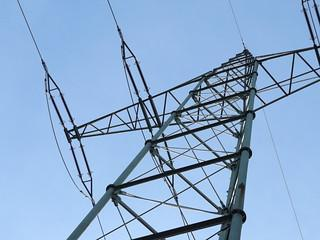power_tower: (37, 34, 320, 240)
